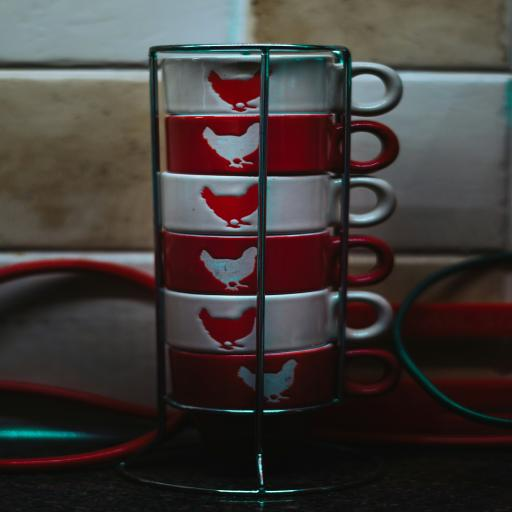phone: (160, 230, 397, 294), (164, 116, 400, 174), (169, 347, 401, 405)
